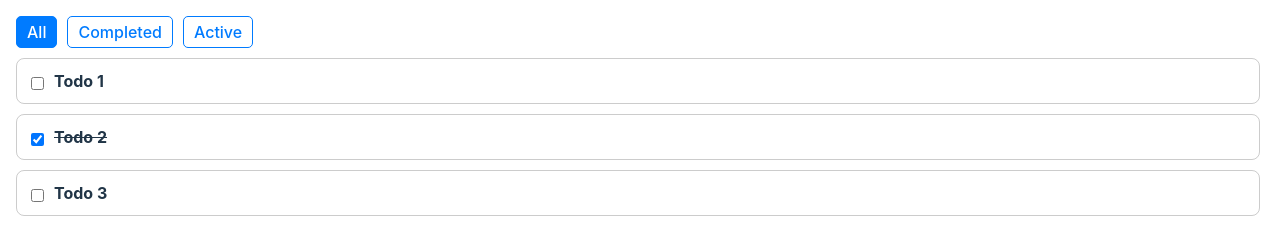
Test: renders TodoList component with 'Completed' filter
Note: Click on 'Completed' filter button
Click the button "Completed" at (120, 32), box [67,16,173,48]
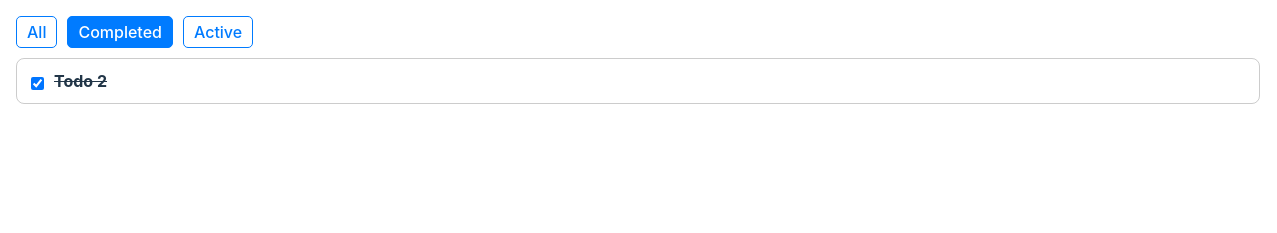
Expected: the text "Todo 2" is shown, [54,71,107,91]
Expected: the text "Todo 1" is gone
Expected: the text "Todo 3" is gone
